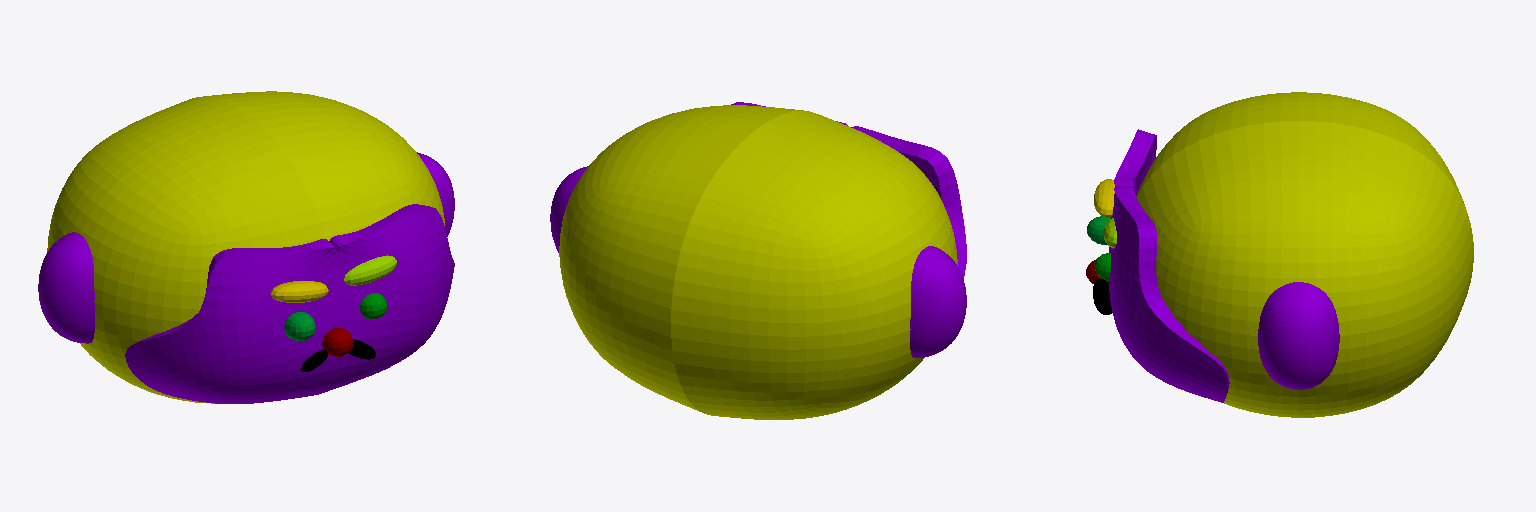
The model's file is saru.obj.
3 views of the same model, side by side, from view 1: azimuth 30°, elevation 25°; view 2: azimuth 150°, elevation 25°; view 3: azimuth 270°, elevation 25° (orthographic).
Visible parts, largest first — view 1: head, face, ear.001, 立方体.006, 立方体.002, 立方体.001, 立方体.004, 立方体; view 2: head, ear.001, face; view 3: head, face, ear.001, 立方体.006, 立方体.005.
Boxes of the visible parts, box(x1,y1,x2,y2) form: head: box(47, 91, 444, 403); face: box(125, 204, 454, 403); ear.001: box(38, 152, 454, 343); 立方体.006: box(270, 281, 328, 302); 立方体.002: box(344, 255, 396, 285); 立方体.001: box(284, 312, 315, 340); 立方体.004: box(322, 328, 352, 356); 立方体: box(360, 293, 386, 319); head: box(559, 105, 957, 419); ear.001: box(550, 166, 966, 357); face: box(731, 102, 966, 278); head: box(1136, 92, 1473, 417); face: box(1108, 129, 1229, 402); ear.001: box(1258, 282, 1339, 389); 立方体.006: box(1094, 179, 1114, 216); 立方体.005: box(1093, 279, 1112, 314).
Bounding box in the file's own units: 2.45 × 1.55 × 2.02.